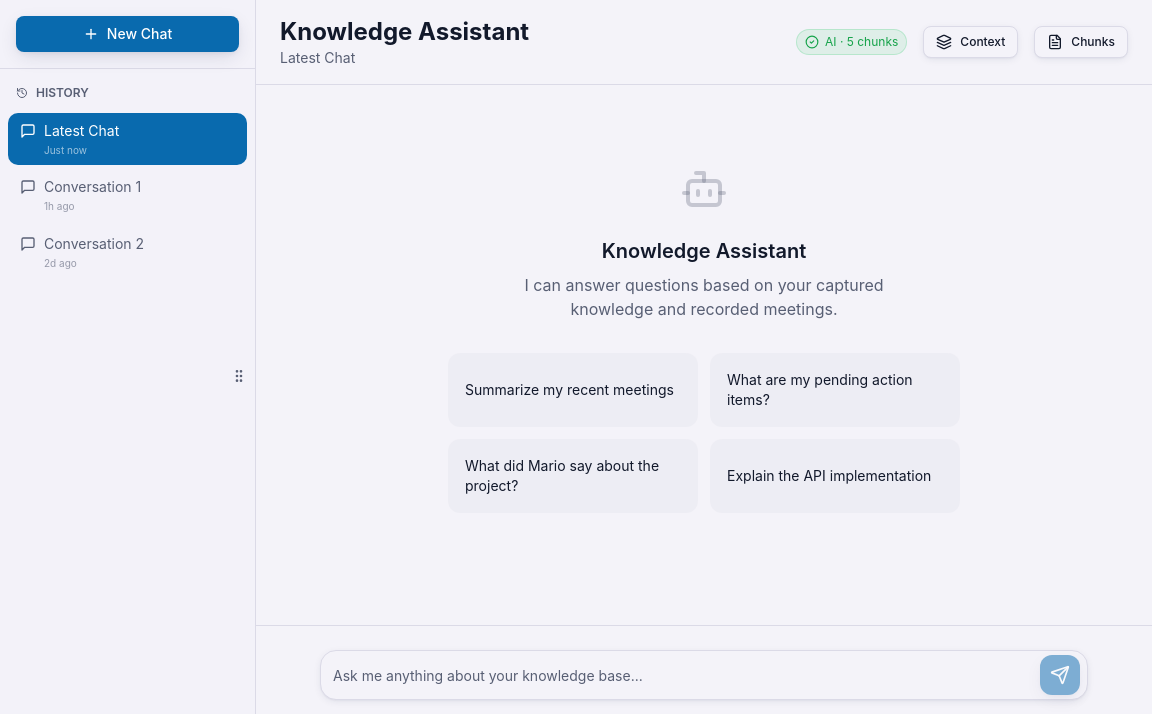
Chat Component › chunk viewer paging › keeps the empty-index message when there is nothing indexed
The width and height of the screenshot is (1152, 714).
Check: the text "HISTORY" is shown, box x1=16 y1=85 x2=89 y2=100
Click the button "Chunks".
click(1081, 42)  # box x1=1034 y1=26 x2=1128 y2=58
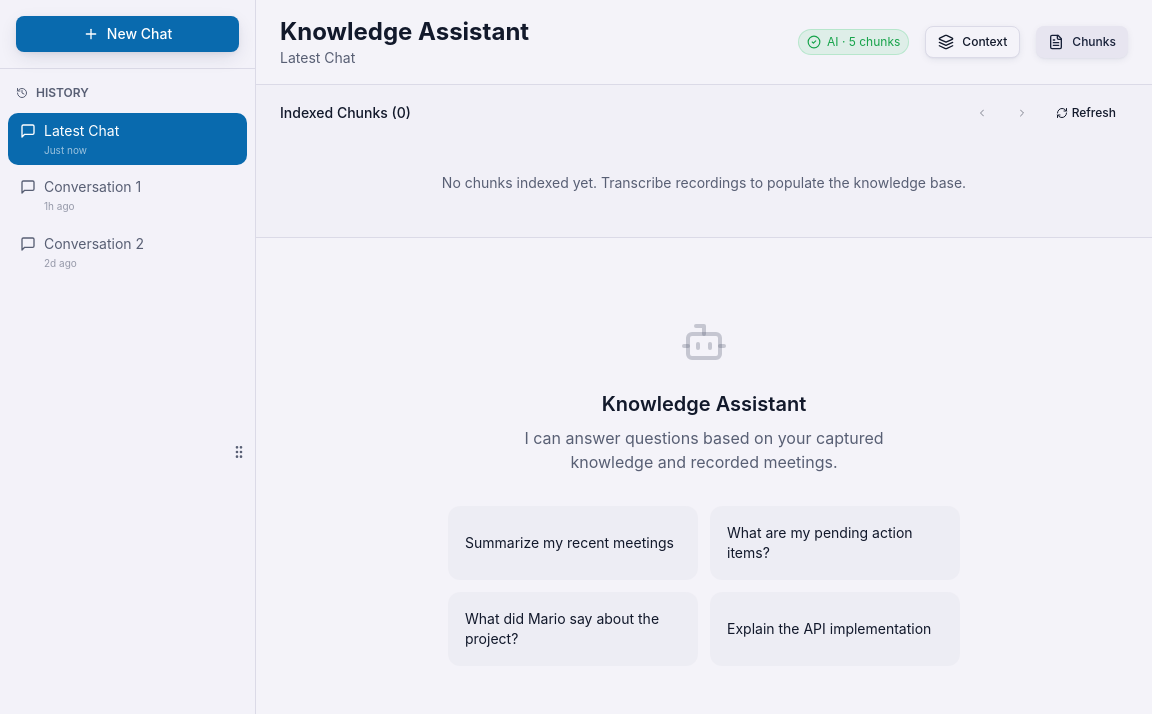
Check: the text "No chunks indexed yet" is shown, box x1=442 y1=174 x2=966 y2=191
Check: the heading "Indexed Chunks (0)" is shown, box x1=280 y1=103 x2=411 y2=123
